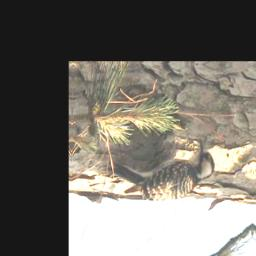Woodpecker: (110, 137, 216, 204)
